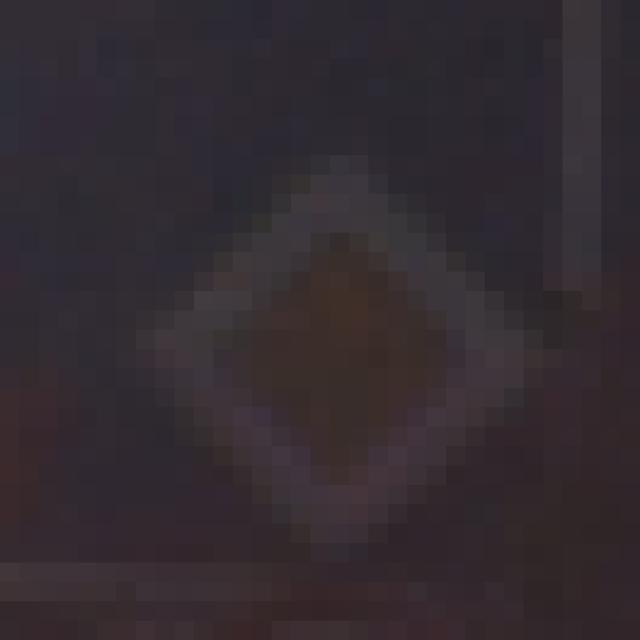Main Road: (98, 117, 544, 544)
